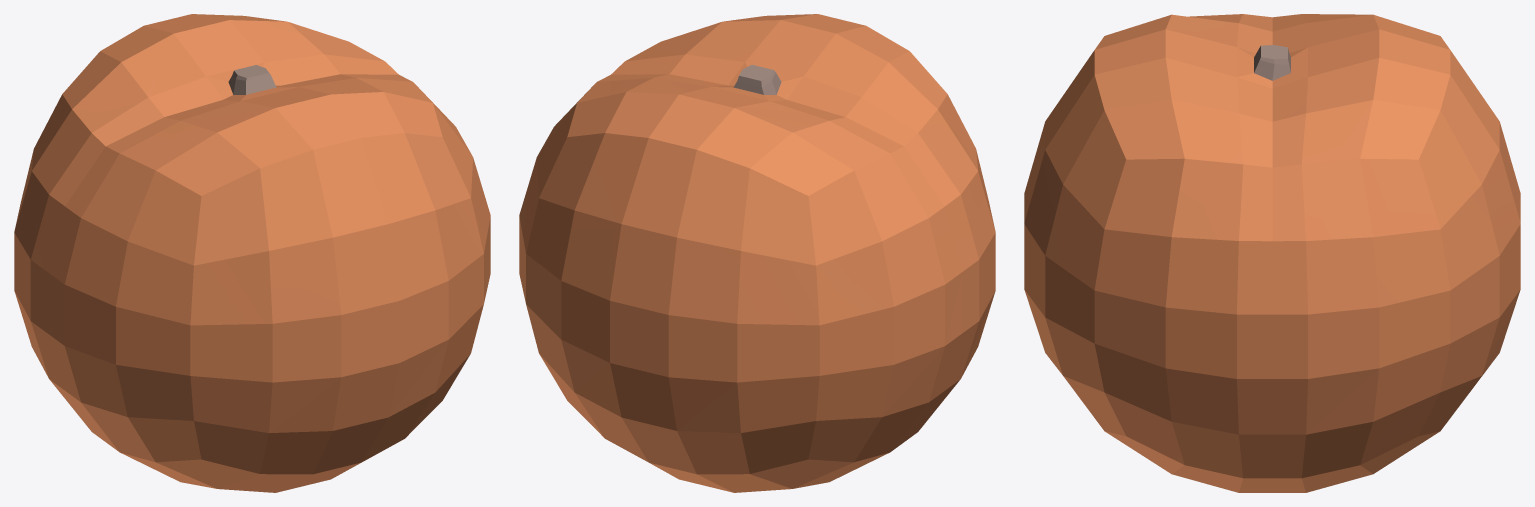
The model's file is peach.gltf.
The picture shows the model from 3 angles, left to right: view 1: azimuth 30°, elevation 25°; view 2: azimuth 150°, elevation 25°; view 3: azimuth 270°, elevation 25°; orthographic projection. The views are drawn at different scales.
Visible parts, largest first — view 1: peach_Roundcube.006; view 2: peach_Roundcube.006; view 3: peach_Roundcube.006.
Boxes of the visible parts, x1,y1,x2,y2 form: peach_Roundcube.006: (14, 14, 490, 492); peach_Roundcube.006: (519, 14, 995, 492); peach_Roundcube.006: (1024, 14, 1520, 492).
Bounding box in the file's own units: 0.0772 × 0.0726 × 0.0772.
